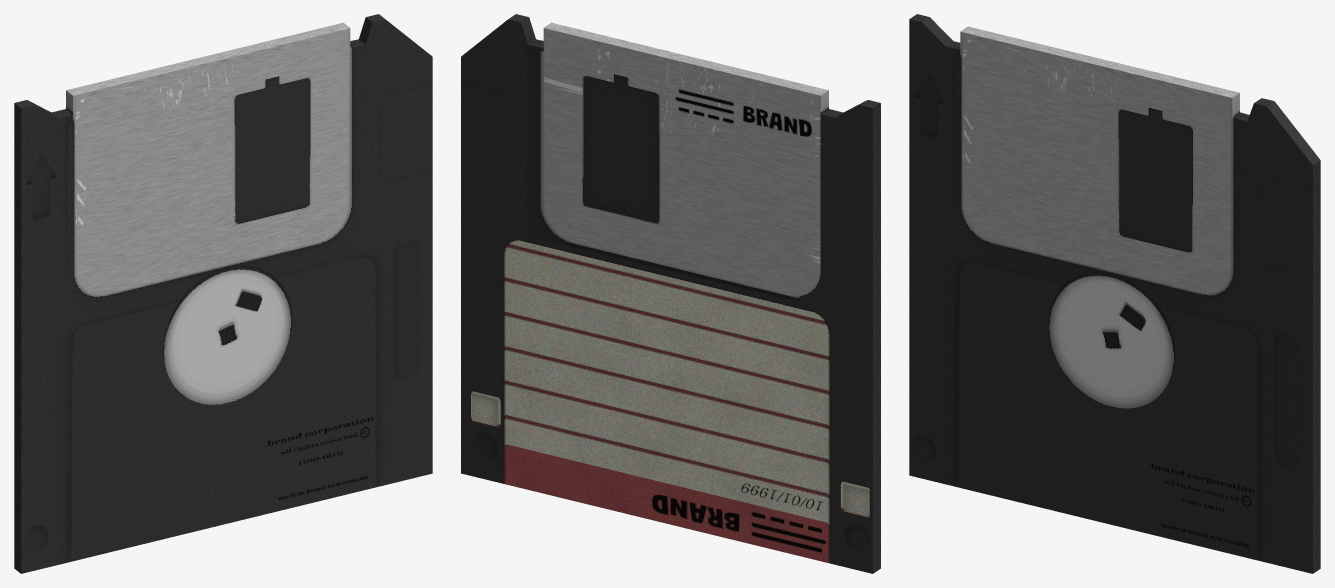
Rendered from floopydisk.fbx.
3 views of the same model, side by side, from view 1: azimuth 30°, elevation 25°; view 2: azimuth 150°, elevation 25°; view 3: azimuth 330°, elevation 25° (orthographic). The views are drawn at different scales.
Parts seen in each view (by area): view 1: floopydisk; view 2: floopydisk; view 3: floopydisk.
Boxes of the visible parts, x1,y1,x2,y2 form: floopydisk: (14, 14, 432, 573); floopydisk: (461, 14, 880, 573); floopydisk: (909, 14, 1320, 573).
Bounding box in the file's own units: 38.68 × 41.75 × 1.21.
Materials: 1 (1 with a texture image).
